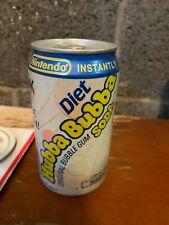metal: (29, 39, 119, 196)
